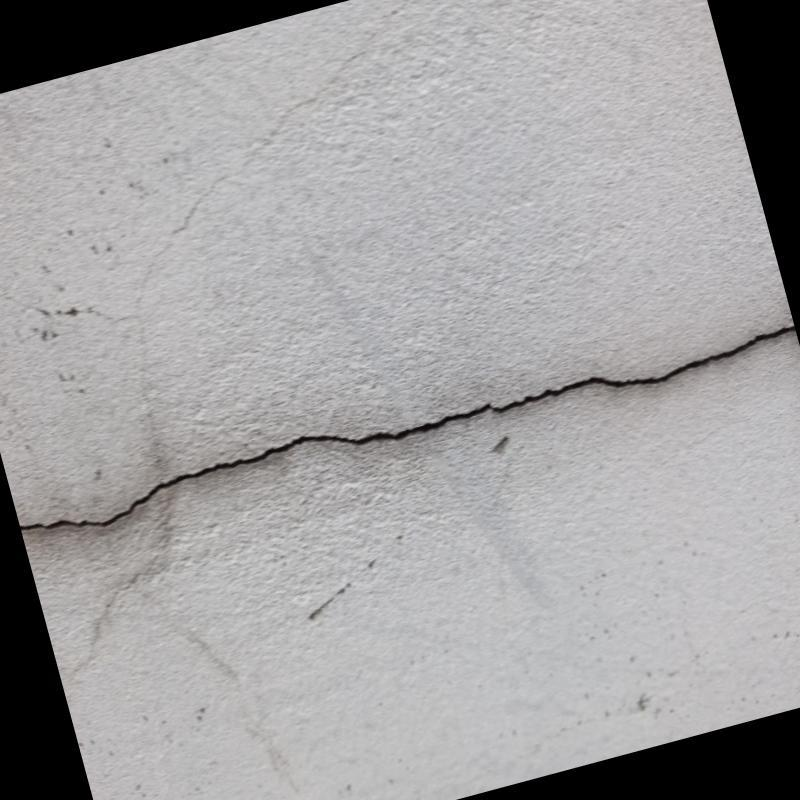crack: (17, 312, 798, 542)
